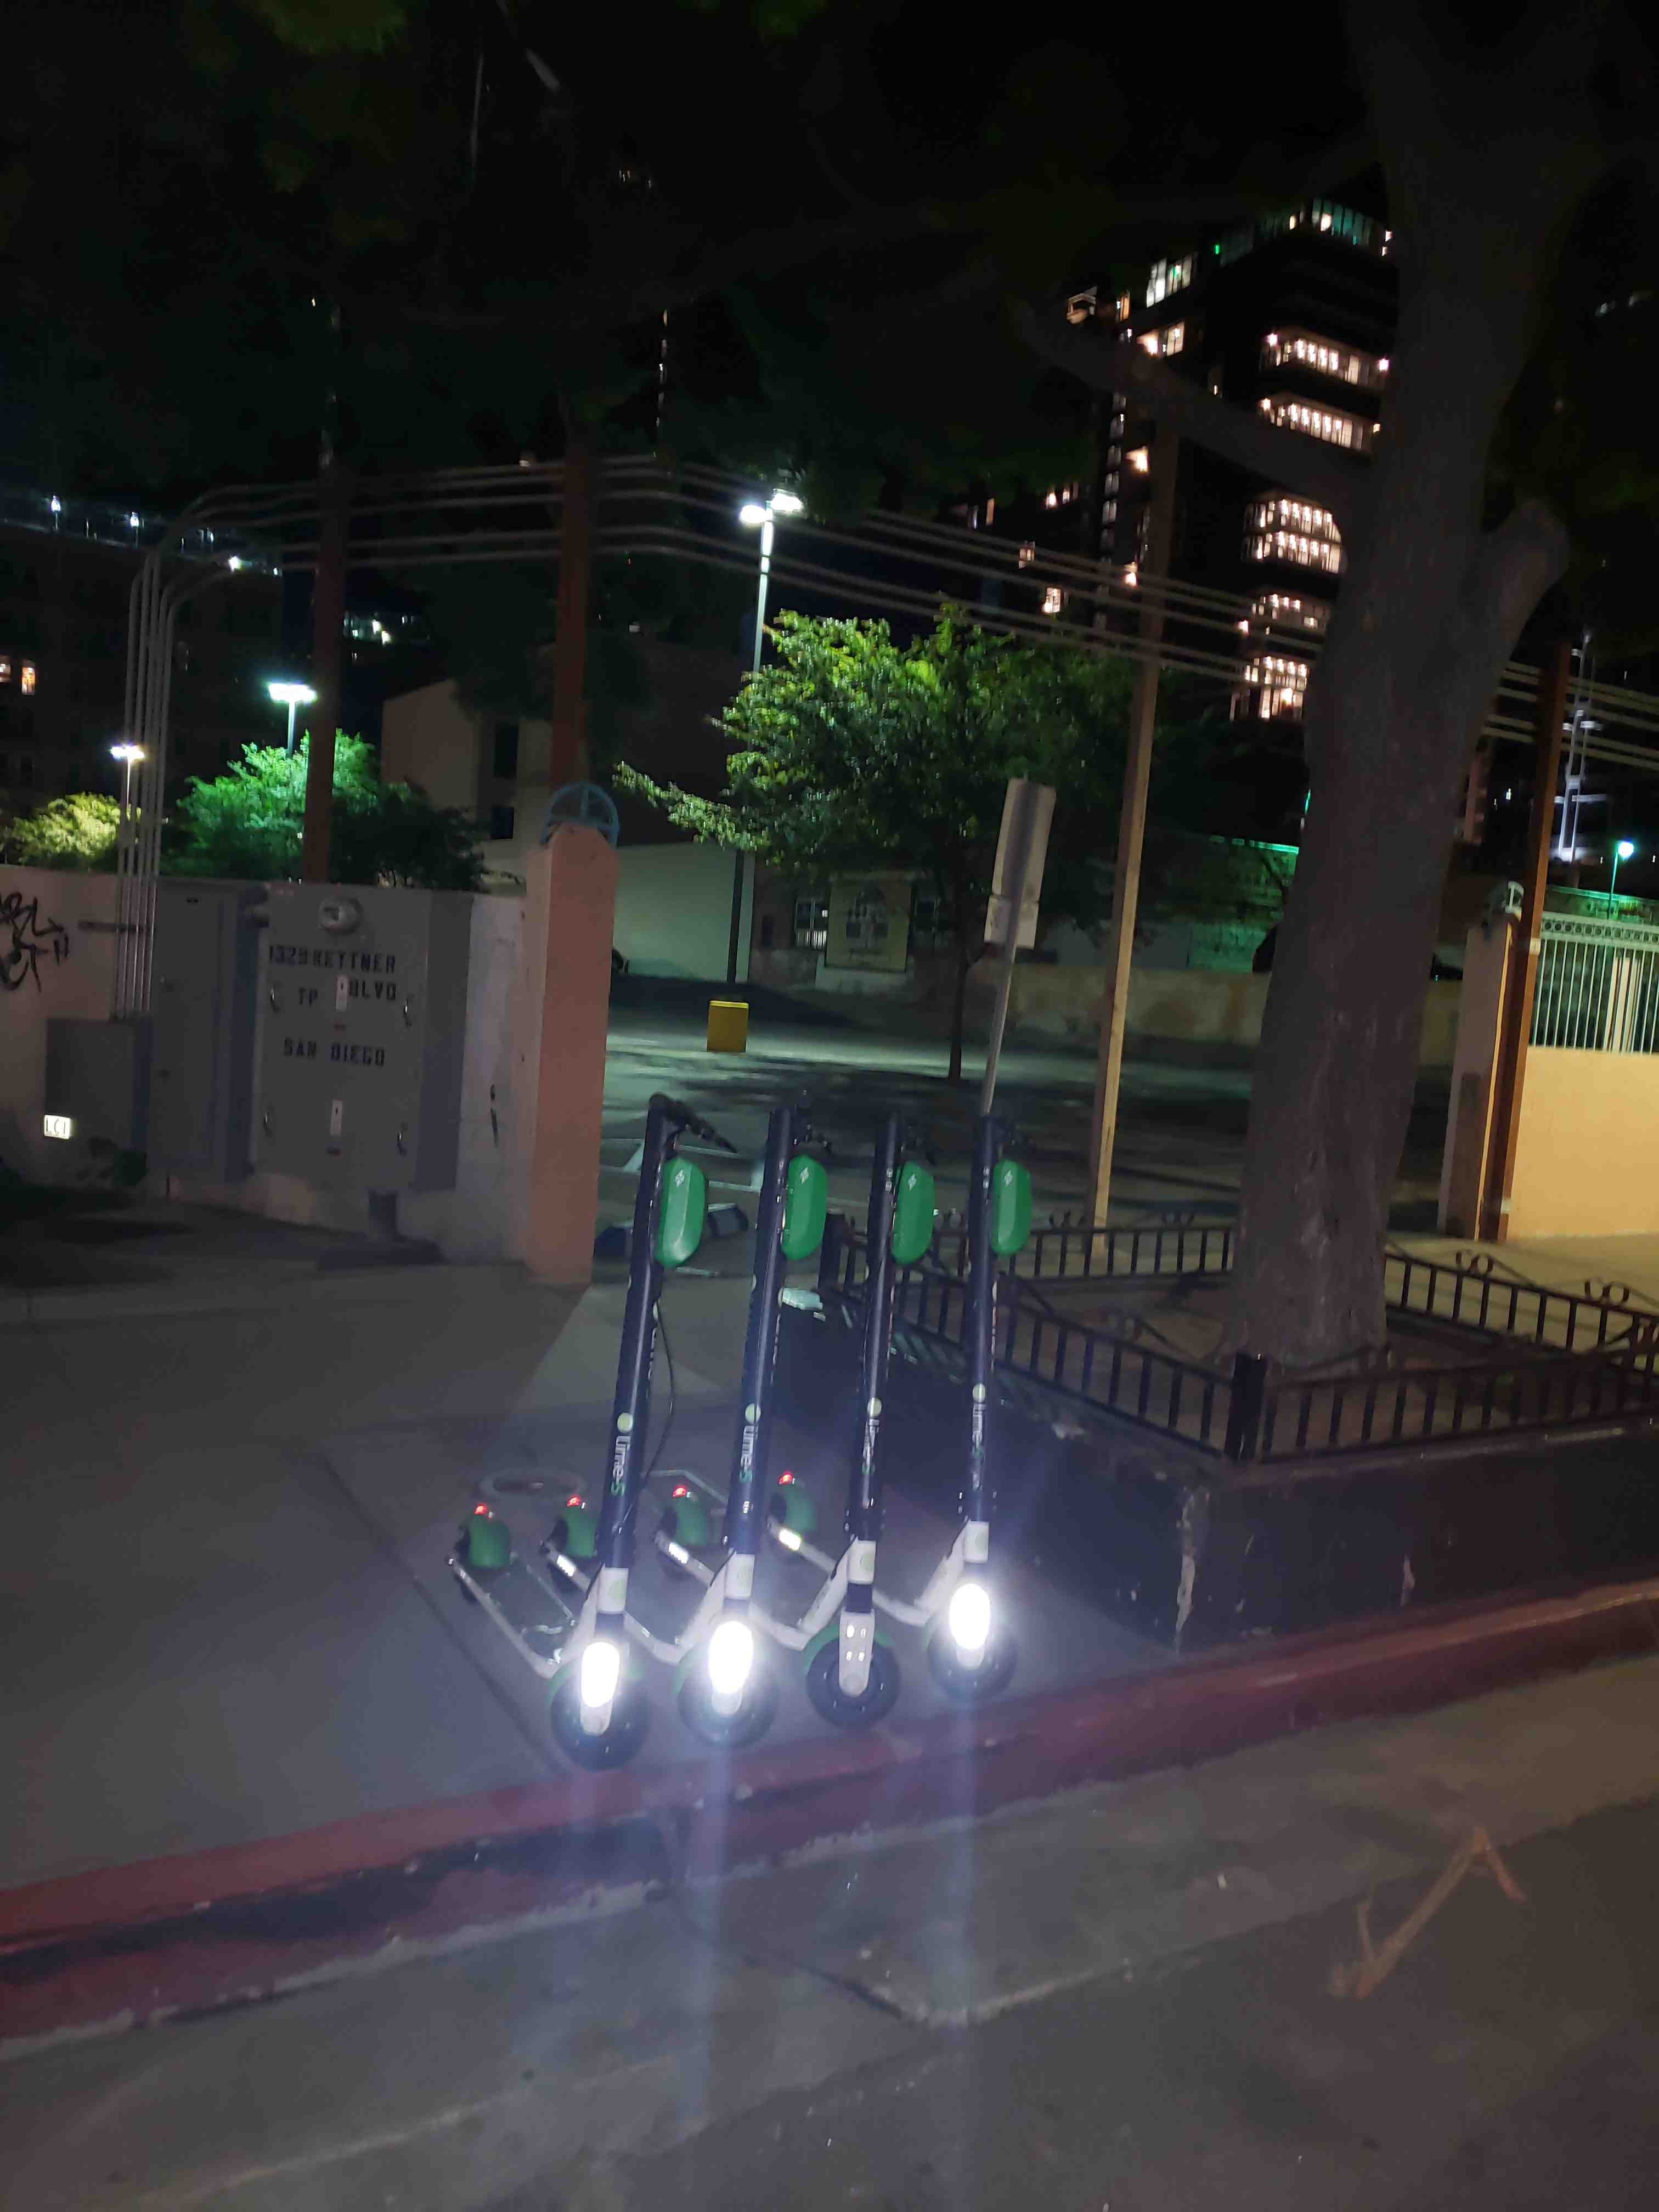too close: (477, 1602, 694, 1919), (910, 1569, 1091, 1865), (659, 1609, 810, 1897), (798, 1595, 939, 1872)
